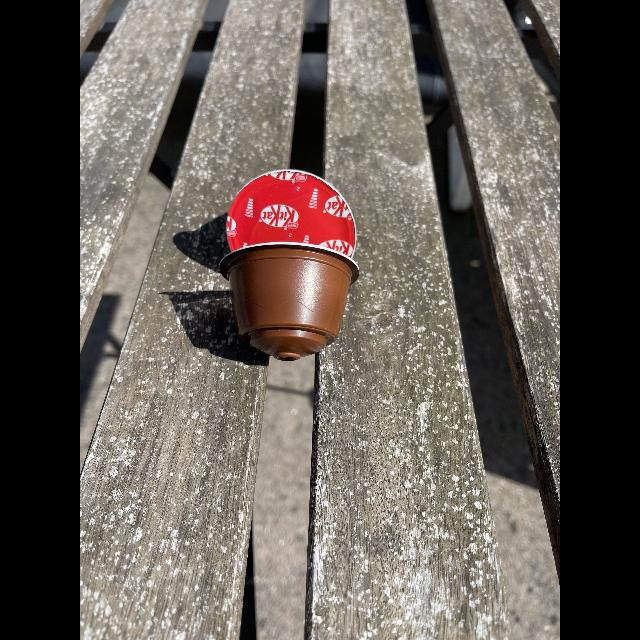intact_capsule: (217, 242, 365, 364), (214, 169, 370, 257)
